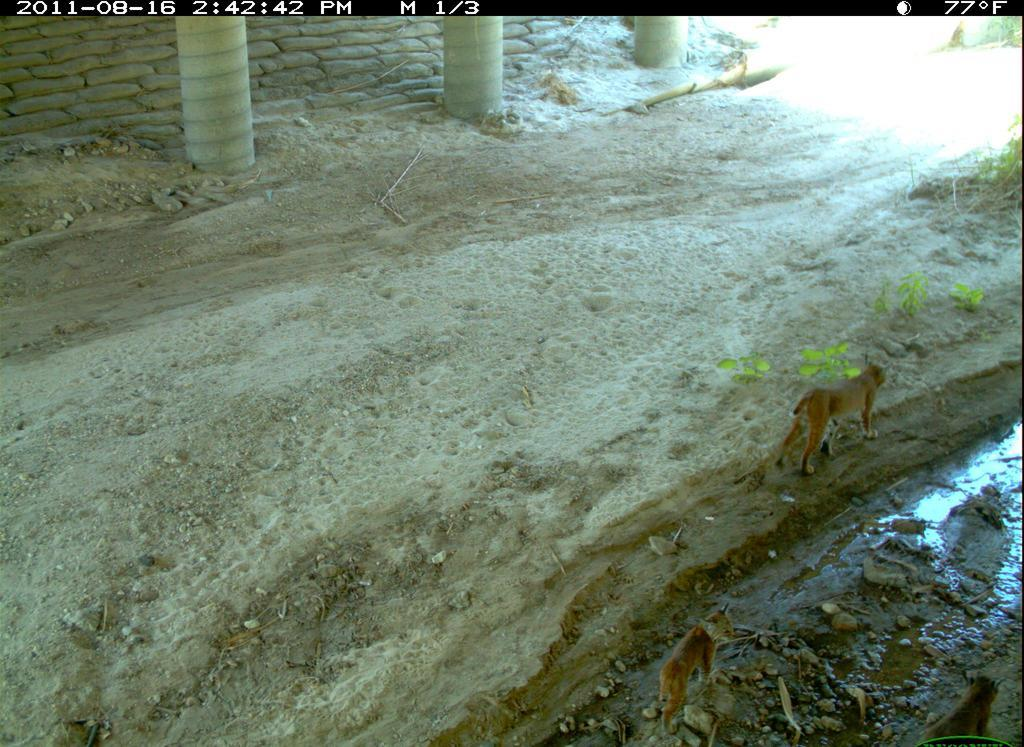bobcat: (771, 353, 893, 482), (653, 601, 744, 740)
